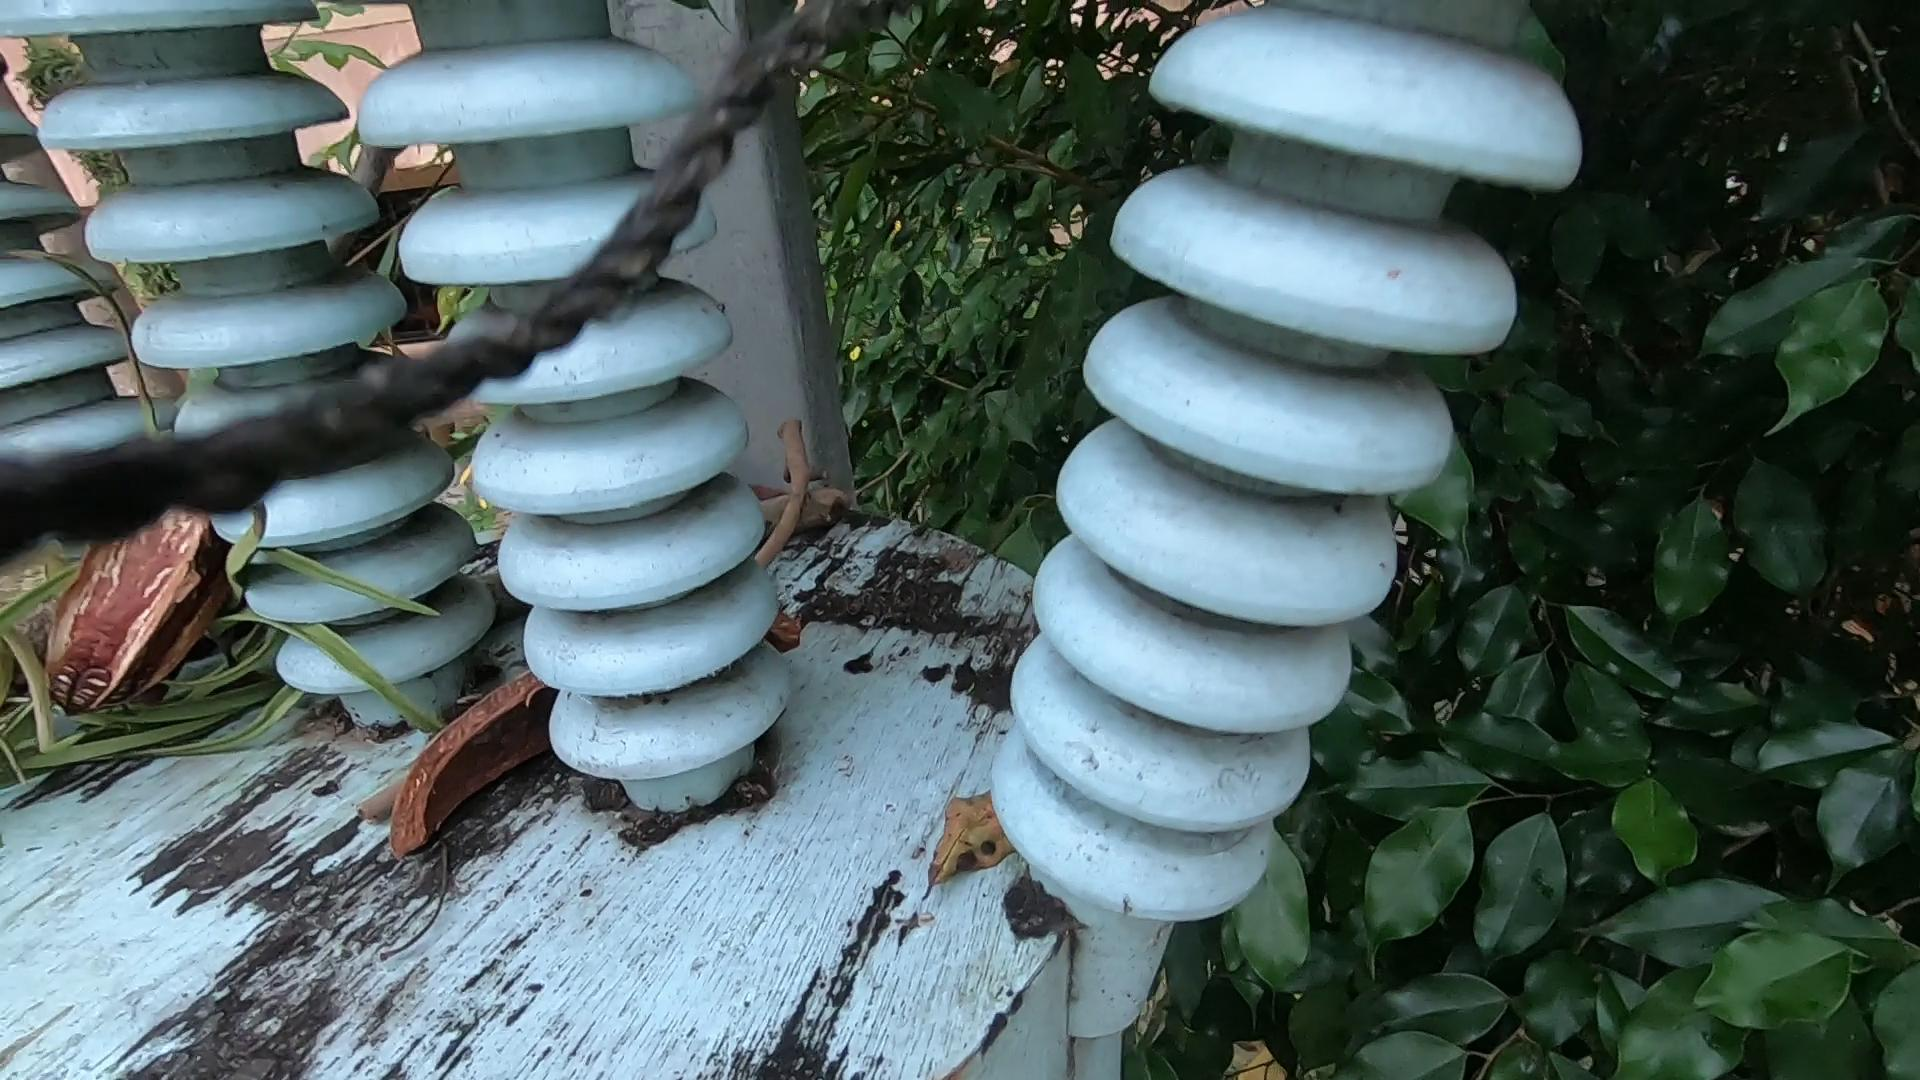branch with leaves: (1, 455, 562, 778)
leaf: (849, 684, 1048, 923)
mahogany fruit: (560, 638, 562, 642)
tree branch: (716, 384, 843, 607), (291, 103, 462, 251), (328, 746, 429, 851)
